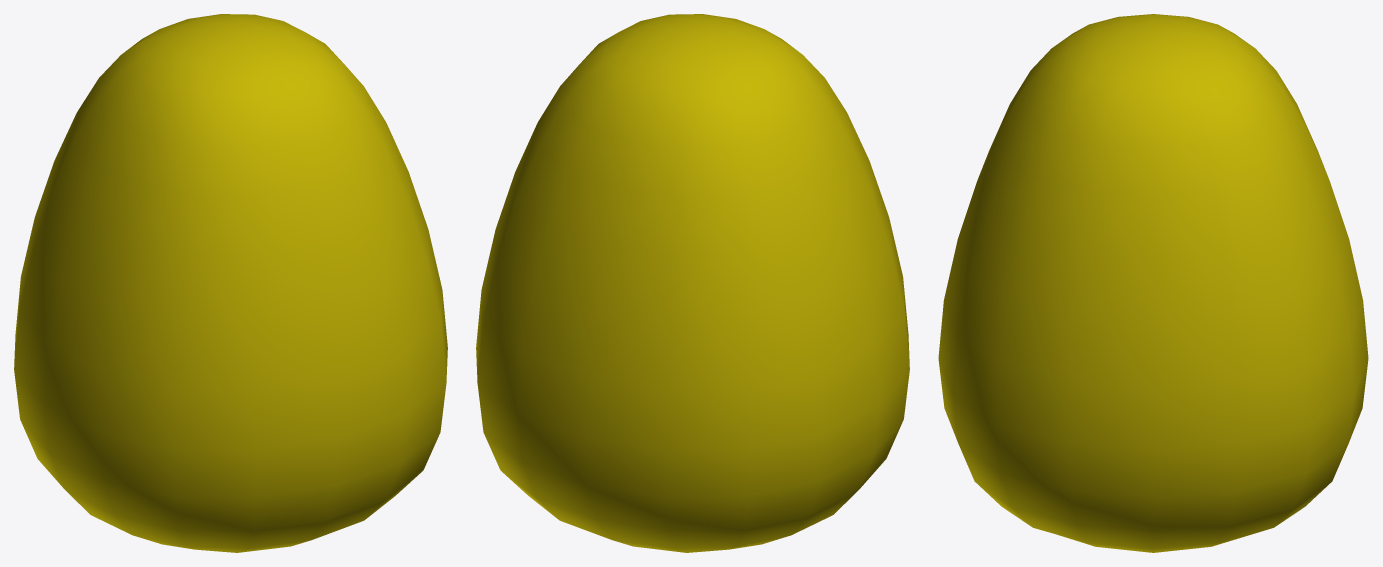
File: huevocuatro.fbx
3 renders of one model, left to right at view 1: azimuth 30°, elevation 25°; view 2: azimuth 150°, elevation 25°; view 3: azimuth 270°, elevation 25°, orthographic.
Parts seen in each view (by area): view 1: Mesh (4); view 2: Mesh (4); view 3: Mesh (4).
Boxes of the visible parts, x1,y1,x2,y2 form: Mesh (4): (14,14,447,552); Mesh (4): (476,14,909,552); Mesh (4): (938,14,1368,552).
Size of the model in its own units: 110 by 138 by 110.
